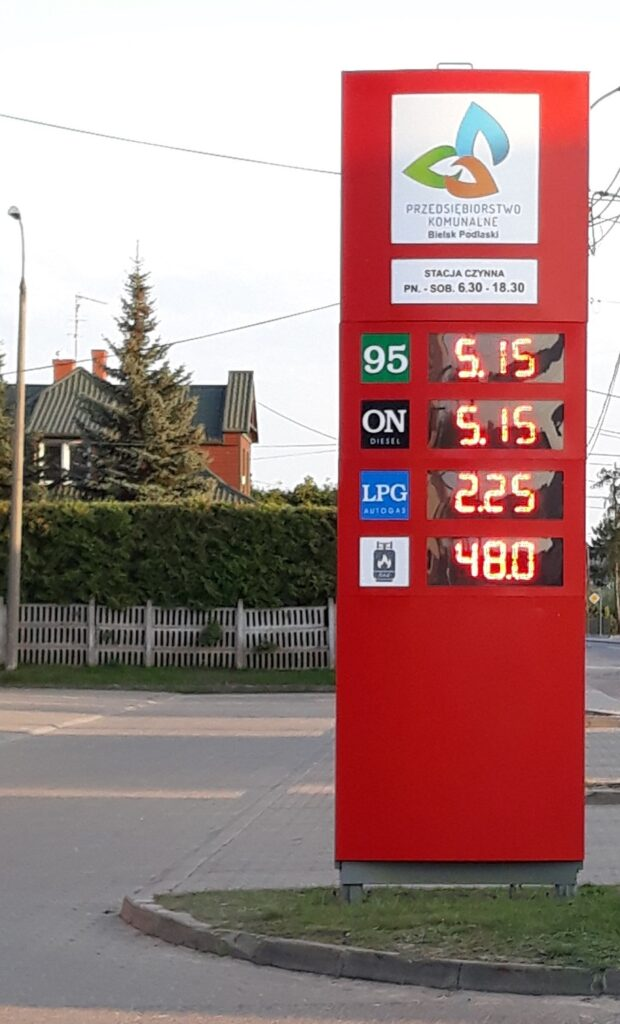LPG: (357, 468, 415, 520)
ON: (360, 397, 414, 452)
PB95: (361, 328, 416, 389)
